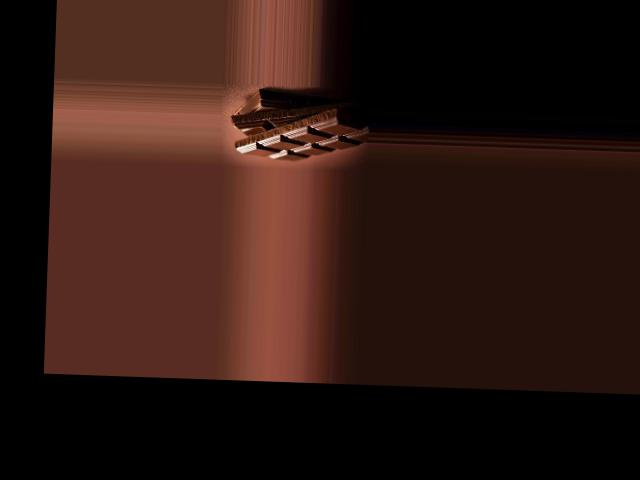chocolate: (230, 96, 366, 162)
